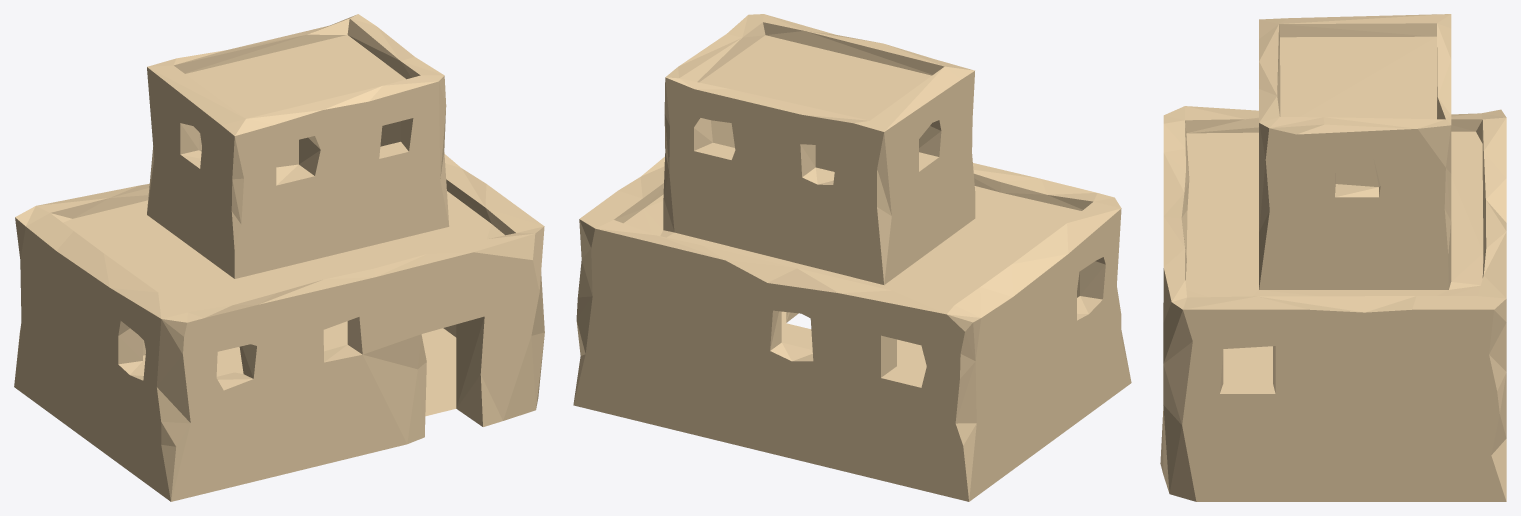
Rendered from House_Block_1_low.fbx.
3 renders of one model, left to right at view 1: azimuth 30°, elevation 25°; view 2: azimuth 150°, elevation 25°; view 3: azimuth 270°, elevation 25°, orthographic. The views are drawn at different scales.
Visible parts, largest first — view 1: House_Block_1_low; view 2: House_Block_1_low; view 3: House_Block_1_low.
Boxes of the visible parts, left/top/right/bottom form: House_Block_1_low: left=14, top=14, right=544, bottom=501; House_Block_1_low: left=573, top=14, right=1131, bottom=501; House_Block_1_low: left=1160, top=14, right=1506, bottom=501.
Size of the model in its own units: 7.55 by 5.9 by 5.4.
